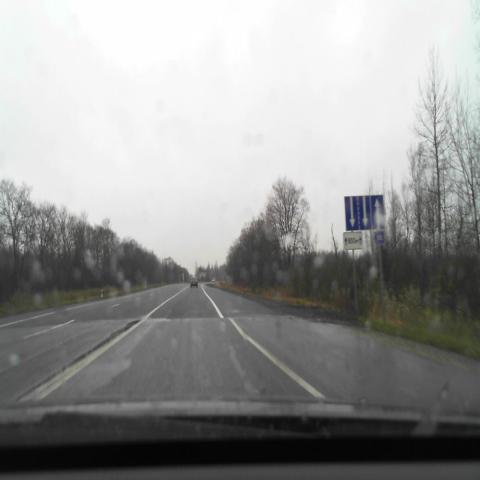5_15_7: (344, 194, 385, 231)
